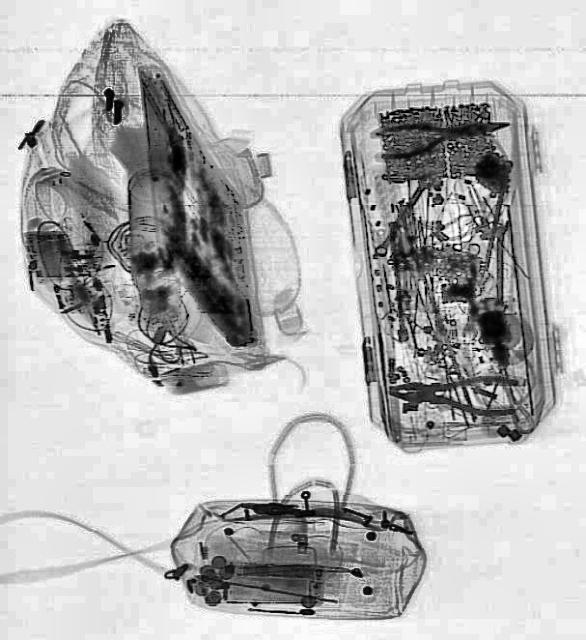Pliers: (373, 106, 513, 160), (388, 368, 518, 416)
Wrench: (370, 170, 438, 260), (489, 218, 513, 314), (465, 242, 479, 338)
